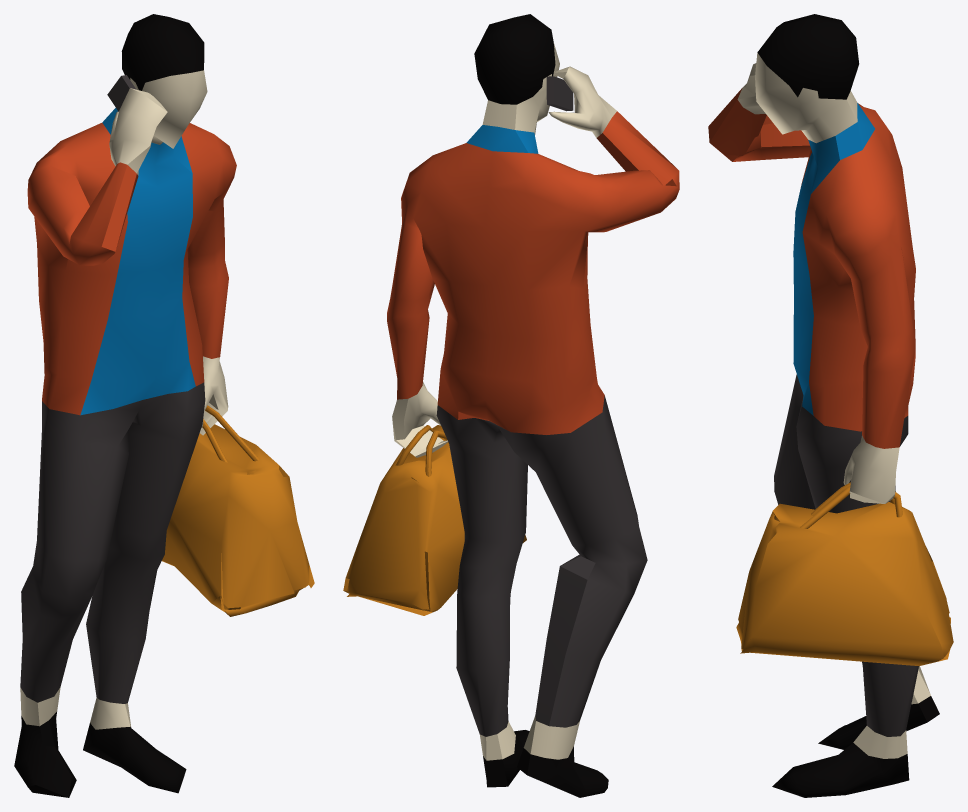
File: ped_phone_walk.glb
3 views of the same model, side by side, from view 1: azimuth 30°, elevation 25°; view 2: azimuth 150°, elevation 25°; view 3: azimuth 270°, elevation 25° (orthographic). The views are drawn at different scales.
Parts seen in each view (by area): view 1: Line008_06 - Default_0; view 2: Line008_06 - Default_0; view 3: Line008_06 - Default_0.
Part boxes in pixels (x1,y1,x2,y2): Line008_06 - Default_0: (14, 14, 314, 797); Line008_06 - Default_0: (343, 14, 679, 797); Line008_06 - Default_0: (708, 14, 953, 797).
Size of the model in its own units: 70.5 by 205 by 58.71.
Materials: 1 (1 with a texture image).
